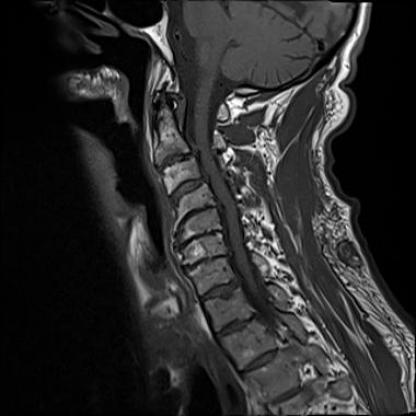Disc Bulgerotation: (165, 180, 208, 201), (183, 254, 231, 271), (177, 205, 218, 222), (154, 152, 195, 168), (177, 231, 222, 245)
Osteophytesrotation: (165, 180, 208, 201), (183, 254, 231, 271), (177, 205, 218, 222), (154, 152, 195, 168), (177, 231, 222, 245)
